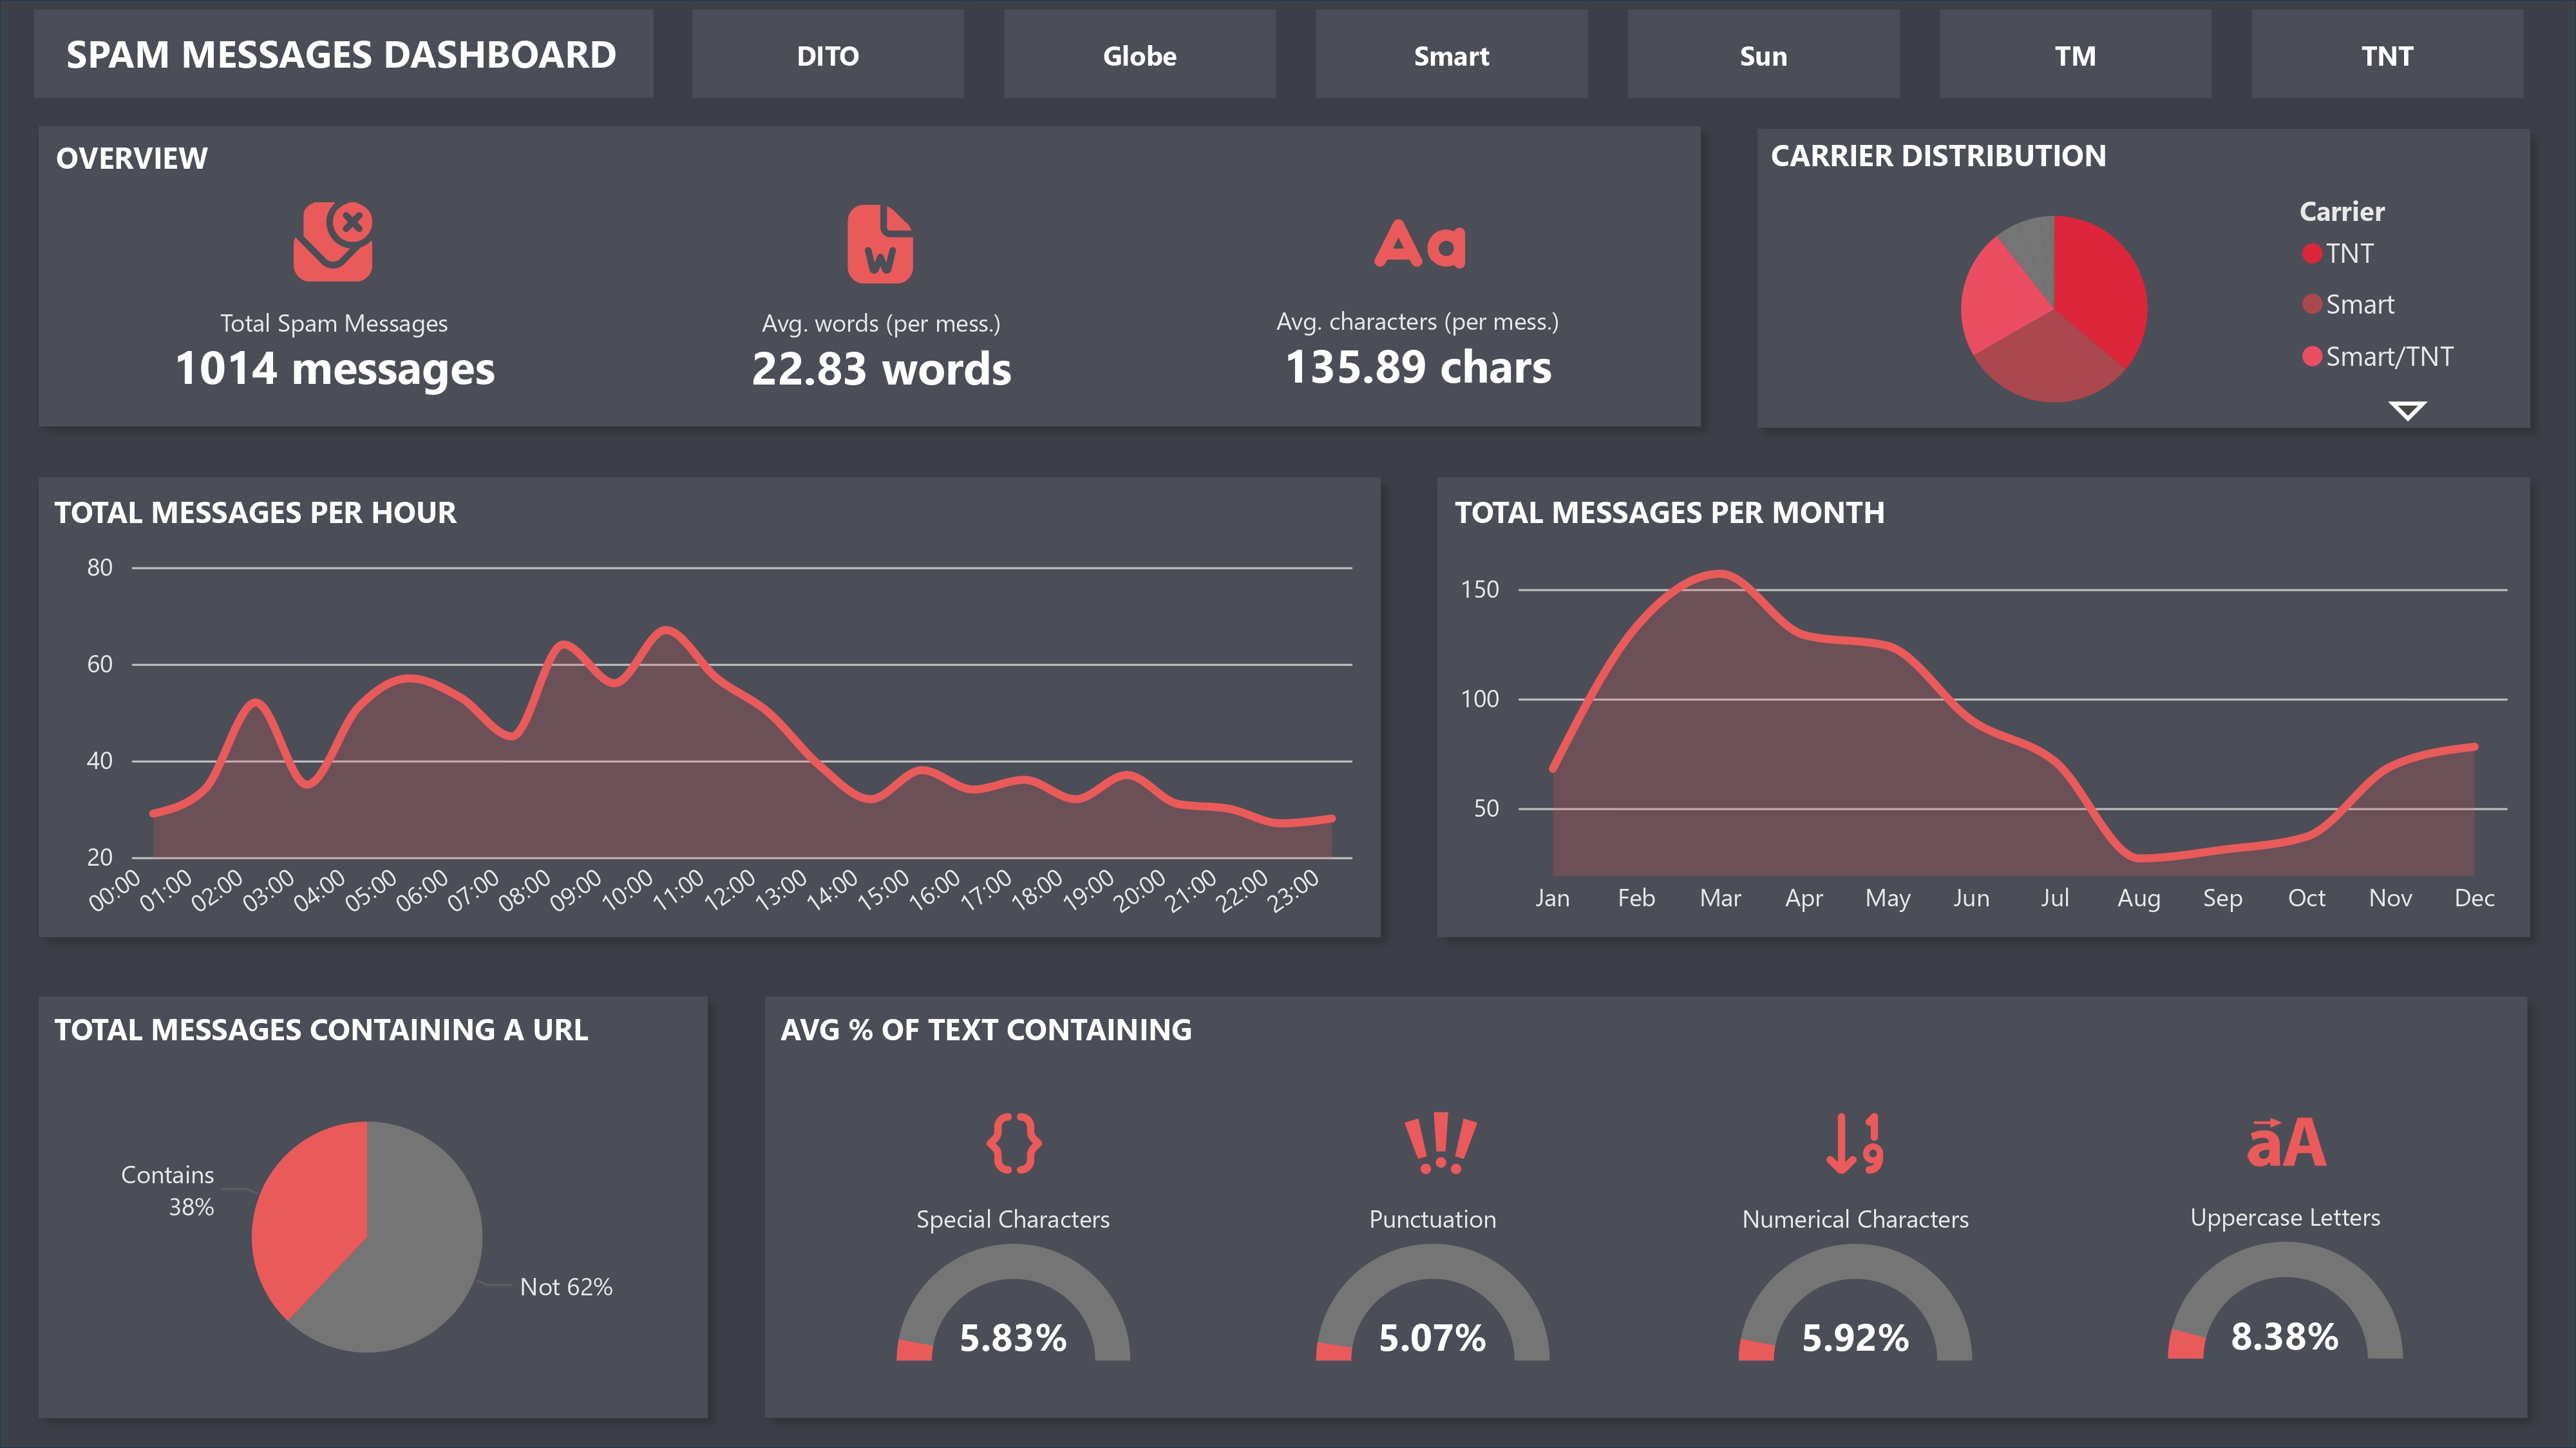

This screenshot's page, from the dashboard's own definition file:
{"tool":"powerbi","page":{"name":"rlm-lmc","canvas":[1280,720],"ordinal":0},"visuals":[{"type":"shape","box":[0,0,113.1,720],"z":0},{"type":"shape","box":[126.3,44.2,733.2,188.9],"z":1000},{"type":"shape","box":[126.7,233.3,577.3,255.3],"z":2000},{"type":"shape","box":[127,488,577,228],"z":3000},{"type":"textbox","box":[136.2,242.5,228.8,35],"z":4000},{"type":"lineChart","fields":{"Y":["CountNonNull(spam_messages_analysis spam_messages.id)"],"Category":["spam_messages_analysis date_data.hour_str"]},"box":[140.8,276.2,549.2,196.2],"z":5000},{"type":"textbox","box":[139.2,498.5,205.4,33.8],"z":6000},{"type":"shape","box":[704,232,561,256],"z":7000},{"type":"textbox","box":[712.5,242.5,246.2,33.8],"z":8000},{"type":"lineChart","fields":{"Y":["CountNonNull(spam_messages_analysis spam_messages.id)"],"Category":["spam_messages_analysis spam_messages.month_str"]},"box":[719,272,532,200],"z":9000},{"type":"textbox","box":[140,53.8,101.2,33.8],"z":10000},{"type":"card","title":"Total Spam Messages","fields":{"Values":["spam_messages_analysis text_data.count_all_display"]},"box":[158,154.4,205,53.3],"z":11000},{"type":"card","title":"Avg. words (per mess.)","fields":{"Values":["spam_messages_analysis text_data.avg_word_count_display"]},"box":[397.1,153.5,205,54.2],"z":12000},{"type":"card","title":"Avg. characters (per mess.)","fields":{"Values":["spam_messages_analysis text_data.avg_char_length_display"]},"box":[626.3,154.4,205.8,54.2],"z":13000},{"type":"shape","box":[860.5,44.4,401,189.1],"z":14000},{"type":"textbox","box":[871.2,55,196.2,35],"z":15000},{"type":"pieChart","fields":{"Category":["spam_messages_analysis spam_messages.carrier"],"Y":["CountNonNull(spam_messages_analysis spam_messages.id)"]},"box":[886.4,77.5,358.6,148.6],"z":16000},{"type":"image","box":[233,91.9,55,55],"z":17000},{"type":"image","box":[469.6,91.9,59.2,55],"z":18000},{"type":"image","box":[698,91.9,64.2,62.5],"z":19000},{"type":"textbox","box":[137.1,0,581.4,54.3],"z":20000},{"type":"shape","box":[704,488,562,229],"z":21000},{"type":"gauge","title":"Special Characters","fields":{"Y":["Avg(spam_messages_analysis text_data.non_alnum_perc)"]},"box":[152.3,595.2,151.2,83.8],"z":22000},{"type":"gauge","title":"Numerical Characters","fields":{"Y":["Avg(spam_messages_analysis text_data.digit_perc)"]},"box":[339.8,595.2,151.2,83.8],"z":23000},{"type":"gauge","title":"Uppercase Letters","fields":{"Y":["Avg(spam_messages_analysis text_data.uppercase_perc)"]},"box":[523.8,594.7,151,84],"z":24000},{"type":"image","box":[205,545.7,45.7,40],"z":25000},{"type":"image","box":[395,546,43,40],"z":26000},{"type":"image","box":[575.8,541.7,53.3,49.2],"z":27000},{"type":"textbox","box":[718.6,498.8,204.7,34.4],"z":29000}]}

Visuals, with their boxes in screenshot pixels (x1, y1, x2, y2), scaled from the page's 1280x720 canvas onto the 2576x1448 screenshot:
shape: 0:0:227:1447
shape: 254:89:1730:469
shape: 255:469:1417:983
shape: 256:982:1417:1440
textbox: 274:488:735:558
lineChart - CountNonNull(spam_messages_analysis spam_messages.id) x spam_messages_analysis date_data.hour_str: 283:555:1388:950
textbox: 280:1002:694:1071
shape: 1417:466:2546:982
textbox: 1434:488:1929:556
lineChart - CountNonNull(spam_messages_analysis spam_messages.id) x spam_messages_analysis spam_messages.month_str: 1447:547:2517:949
textbox: 282:108:486:176
"Total Spam Messages" card: 318:310:730:417
"Avg. words (per mess.)" card: 799:309:1212:417
"Avg. characters (per mess.)" card: 1260:310:1674:419
shape: 1732:90:2539:470
textbox: 1753:111:2148:181
pieChart - spam_messages_analysis spam_messages.carrier x CountNonNull(spam_messages_analysis spam_messages.id): 1784:156:2506:455
image: 469:185:580:296
image: 945:185:1065:296
image: 1405:185:1534:310
textbox: 276:0:1446:110
shape: 1417:982:2548:1442
"Special Characters" gauge: 307:1197:611:1366
"Numerical Characters" gauge: 684:1197:988:1366
"Uppercase Letters" gauge: 1054:1196:1358:1365
image: 413:1098:504:1178
image: 795:1098:882:1179
image: 1159:1089:1266:1188
textbox: 1446:1003:1858:1072
